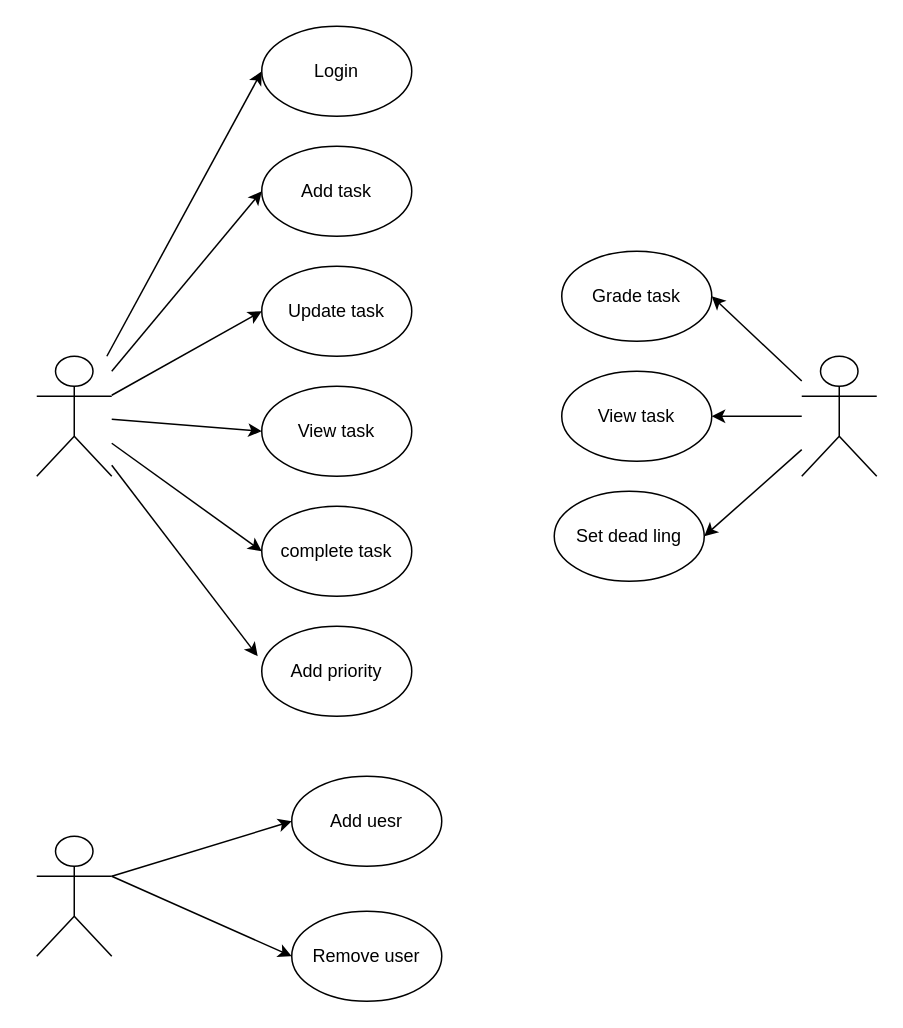
Some shapes in this 903 by 1028 pixel diagram are drawn without their labels. Here are the shapes that lost their labels. From the top down, the centre of each, then its label:
At pixel 73 415: "Student".
At pixel 838 415: "Teacher".
At pixel 73 895: "Admin".
